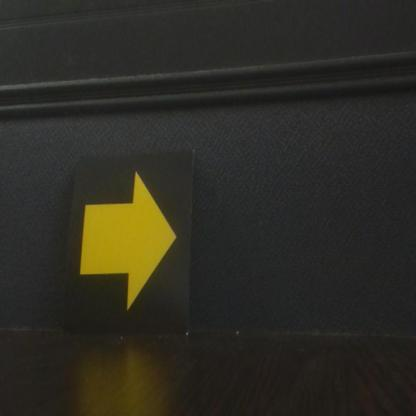right: (63, 150, 194, 333)
